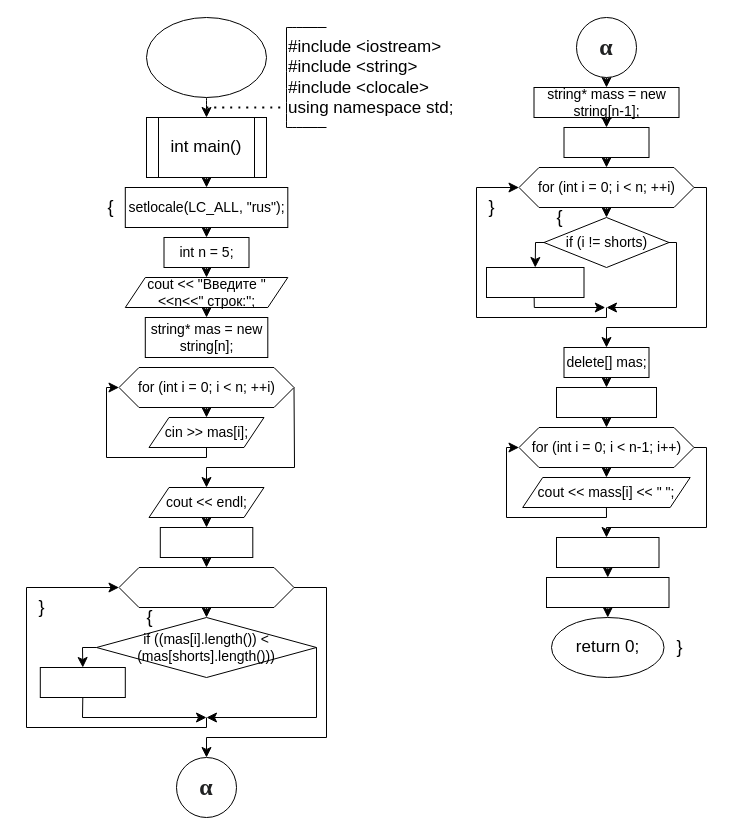
This 734x835 diagram has some shape labels left out. The shapes that lost their labels are listed below. From the top down, each one's centre as x and y in pixels, then its label:
the point at 206,57: начало
the point at 606,142: int j = 0;
the point at 535,282: mass[j++] = mas[i];
the point at 606,402: mas = nullptr;
the point at 206,542: int shorts = 0;
the point at 607,552: delete[] mass;
the point at 206,587: for (int i = 1; i < n; i++)
the point at 607,592: mass = nullptr;
the point at 82,682: shorts = i;
